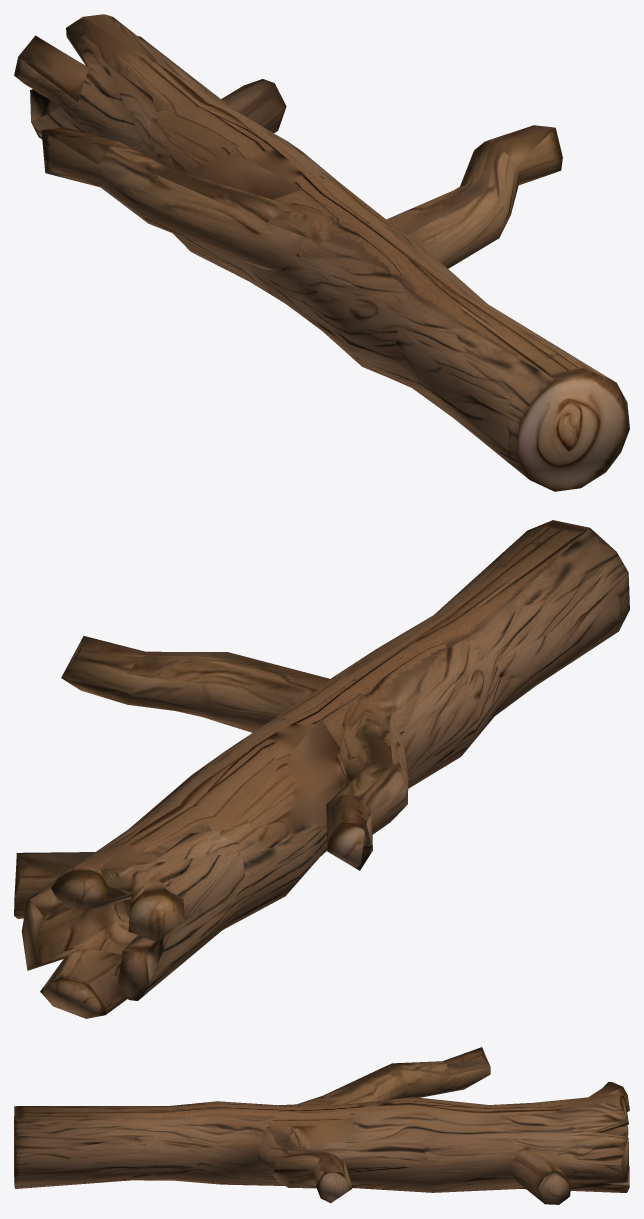
3 views of the same model, one above another, from view 1: azimuth 30°, elevation 25°; view 2: azimuth 150°, elevation 25°; view 3: azimuth 270°, elevation 25° (orthographic). The views are drawn at different scales.
Visible parts, largest first — view 1: texture_pbr_v128; view 2: texture_pbr_v128; view 3: texture_pbr_v128.
Boxes of the visible parts, x1,y1,x2,y2 form: texture_pbr_v128: [14, 14, 629, 491]; texture_pbr_v128: [14, 520, 629, 1018]; texture_pbr_v128: [14, 1047, 629, 1204].
Bounding box in the file's own units: 55.48 × 19.27 × 117.
Materials: 1 (1 with a texture image).
